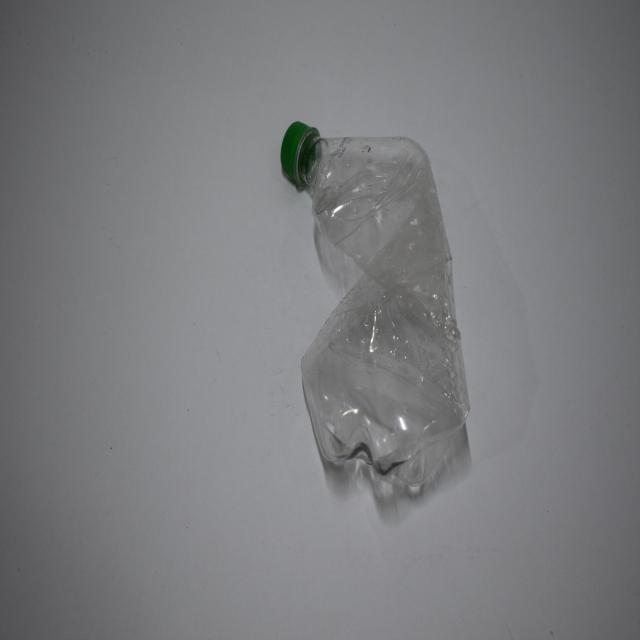bottle: (261, 117, 496, 490)
